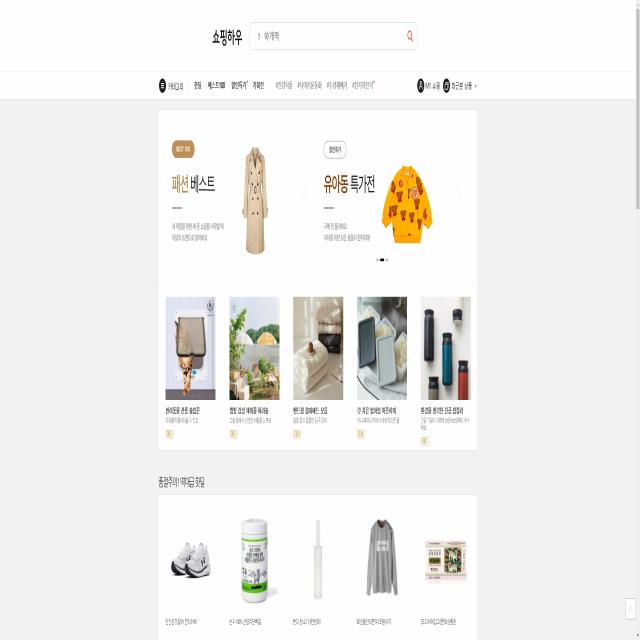menu-bar: (413, 73, 479, 98)
search: (248, 18, 418, 53)
tab-bar: (156, 73, 378, 97)
